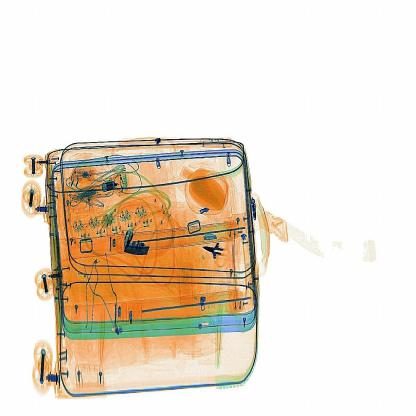gun: (194, 232, 234, 268)
